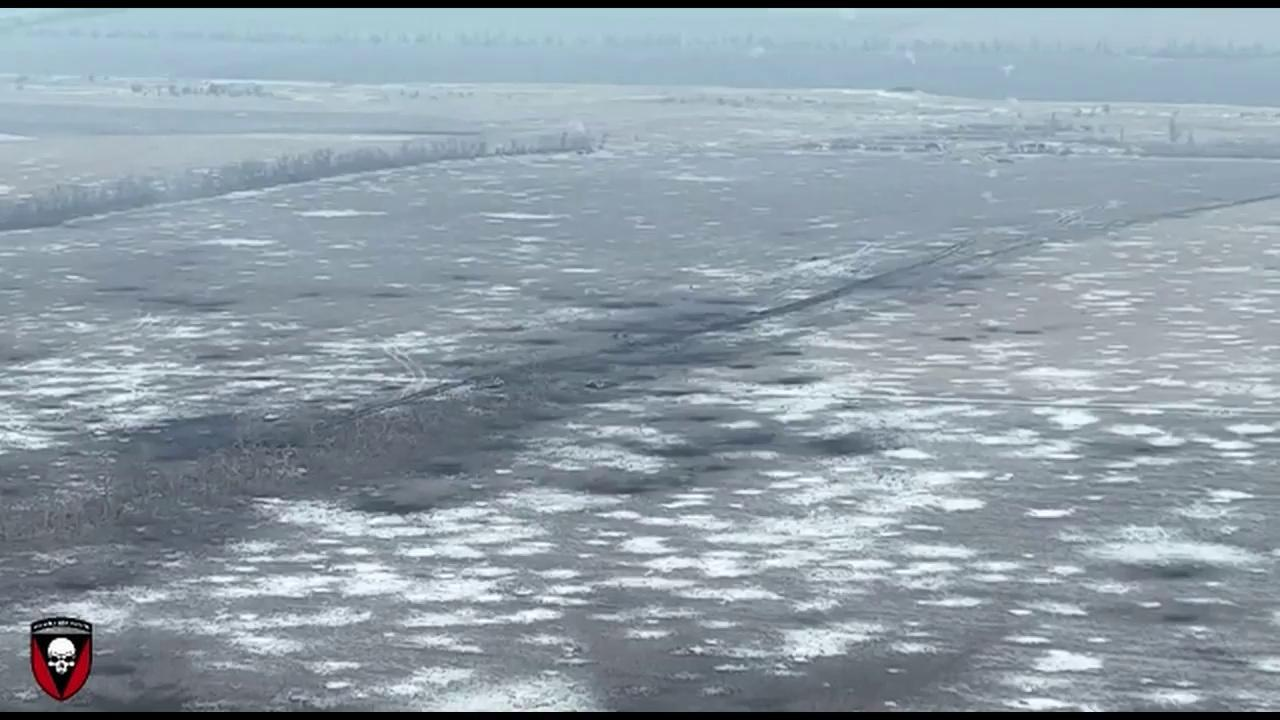vehicle: (584, 377, 612, 391), (483, 376, 504, 390)
